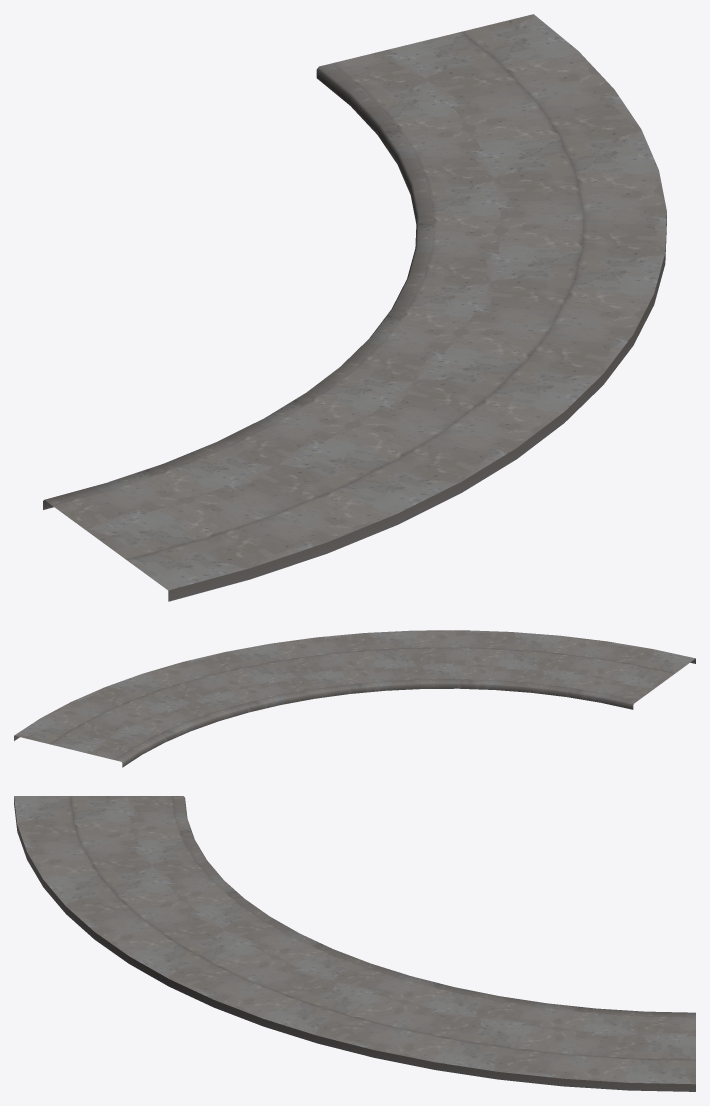
The model's file is Street_Curve_2Lane_Curb.gltf.
The picture shows the model from 3 angles, top to bottom: view 1: azimuth 30°, elevation 25°; view 2: azimuth 150°, elevation 25°; view 3: azimuth 270°, elevation 25°; orthographic projection. The views are drawn at different scales.
Parts seen in each view (by area): view 1: Street_Curve_2Lane_Curb; view 2: Street_Curve_2Lane_Curb; view 3: Street_Curve_2Lane_Curb.
Part boxes in pixels (x1,y1,x2,y2): Street_Curve_2Lane_Curb: (43,14,666,601); Street_Curve_2Lane_Curb: (14,630,695,767); Street_Curve_2Lane_Curb: (14,796,695,1091).
Size of the model in its own units: 12 by 0.15 by 12.
1 material, 1 textured.
